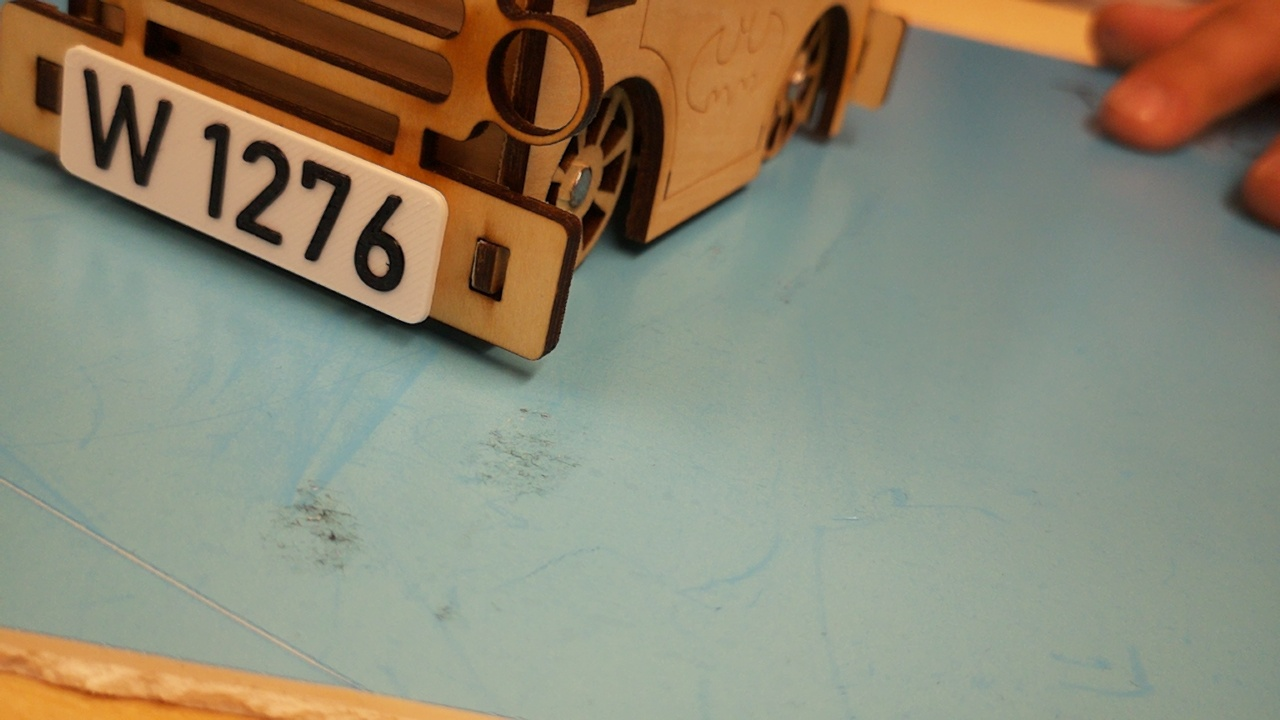license_plate: (55, 42, 453, 326)
